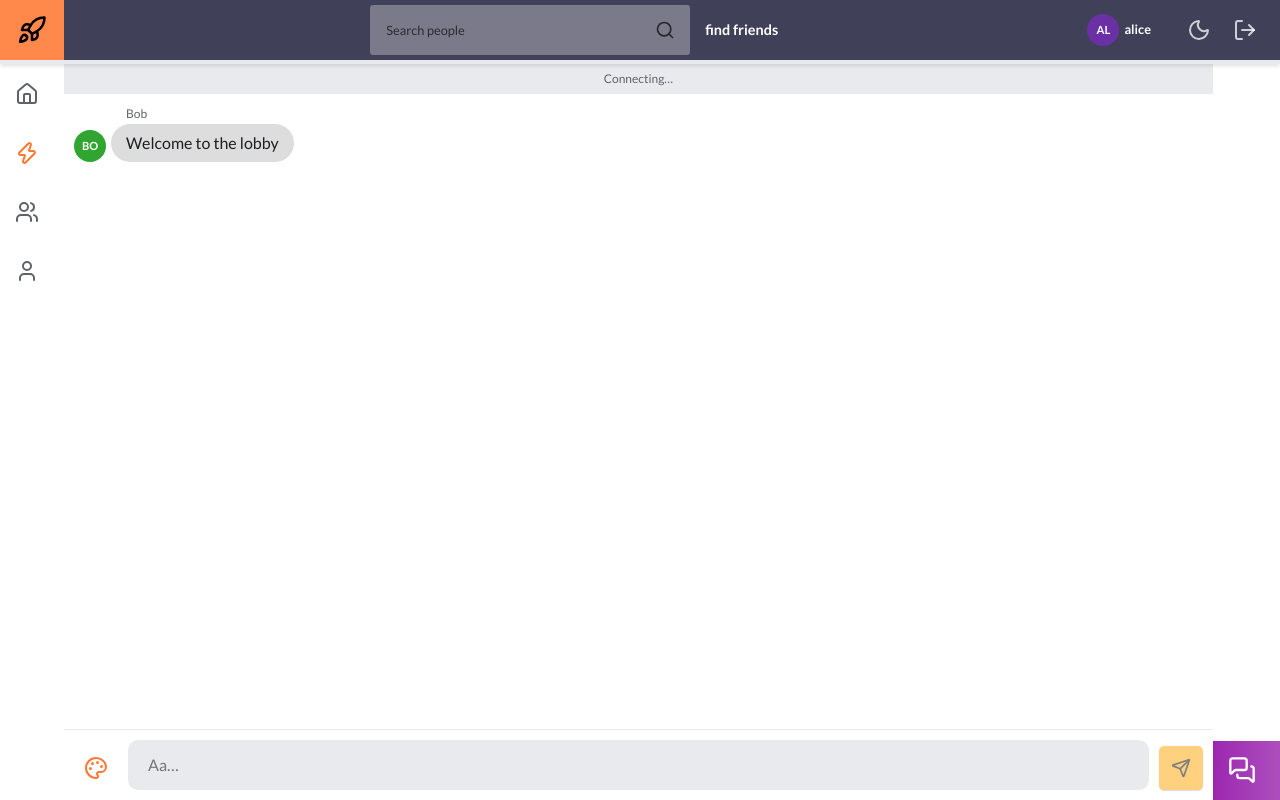
Test case: chat panel › remembers the bubble colour picked in the colour picker
Expected: the text "Welcome to the lobby" is shown, [111,124,294,162]
Click the 4th button named "Message colour".
click(96, 768)  # box [74,746,118,790]
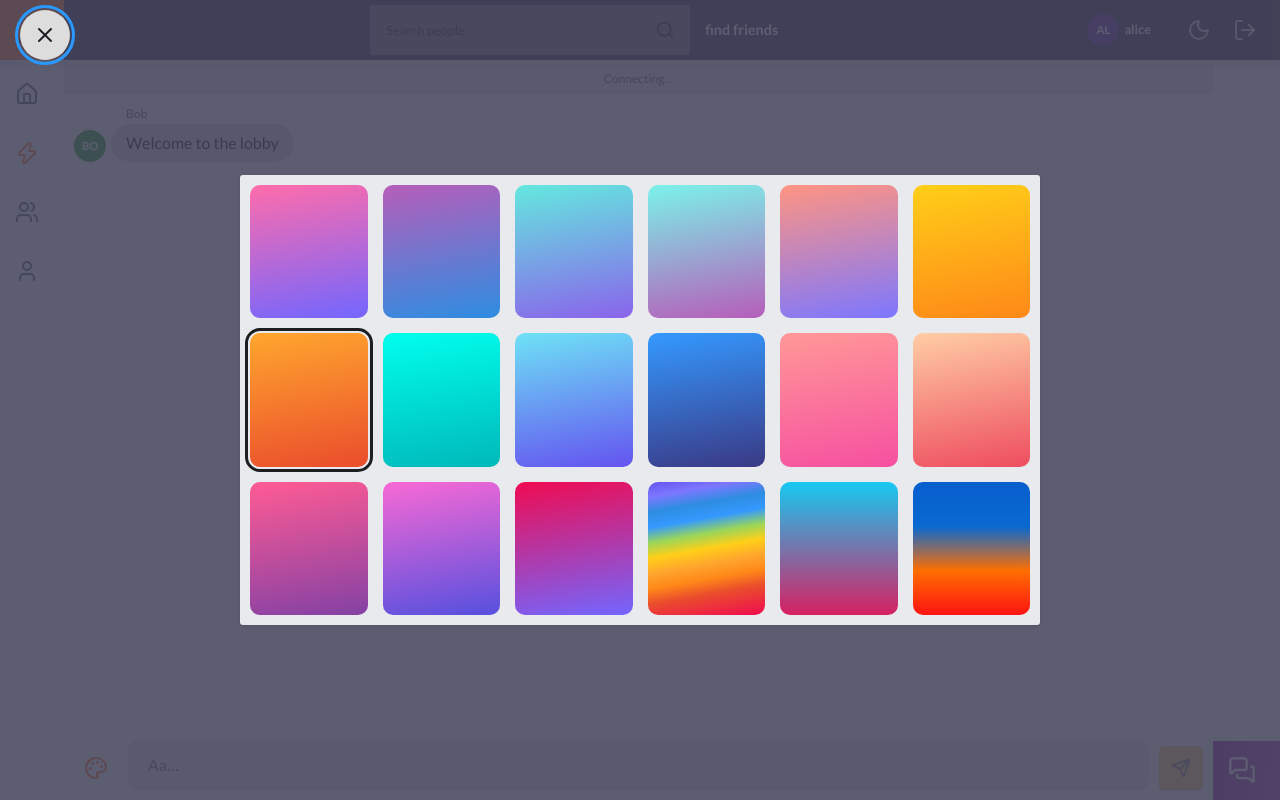
Now the number of buttons named "Colour" is 18
Click the 4th button named "Colour 3".
click(574, 252)  # box [515,185,632,318]
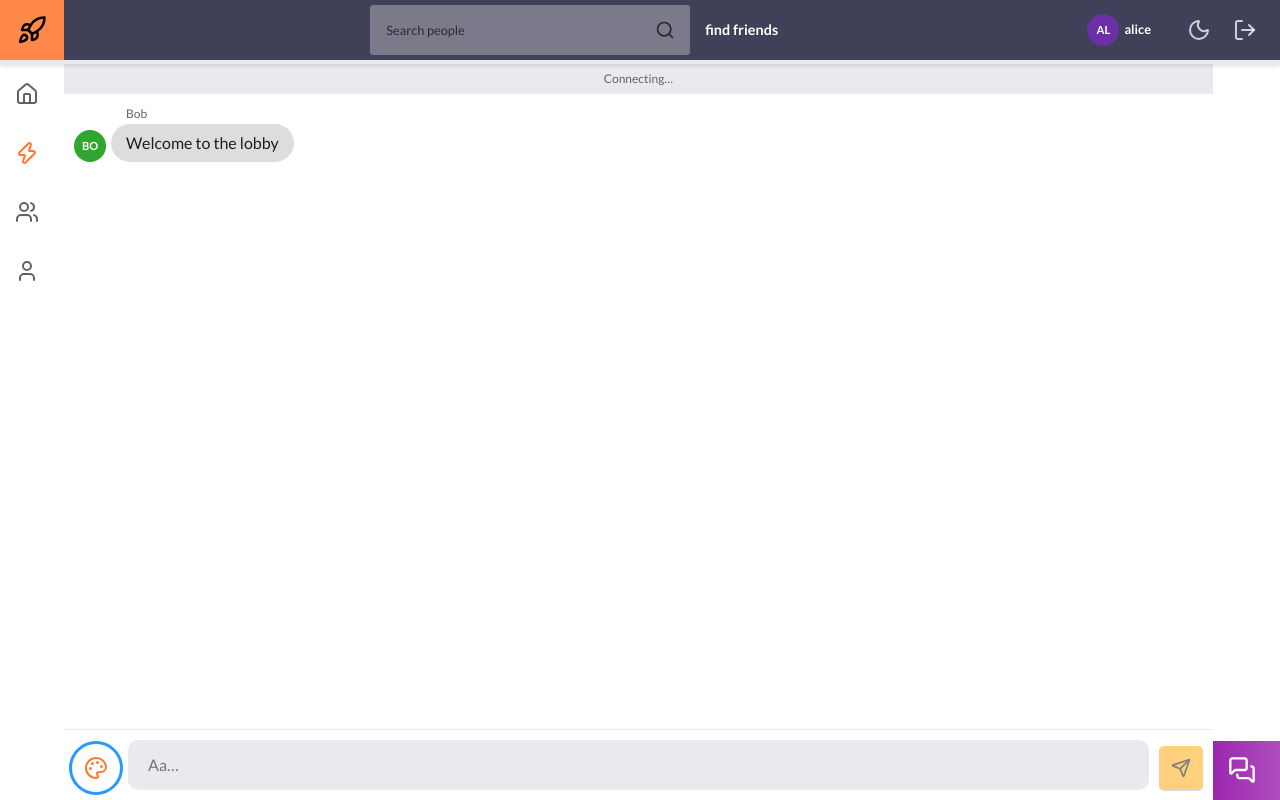
Now the dialog is gone
